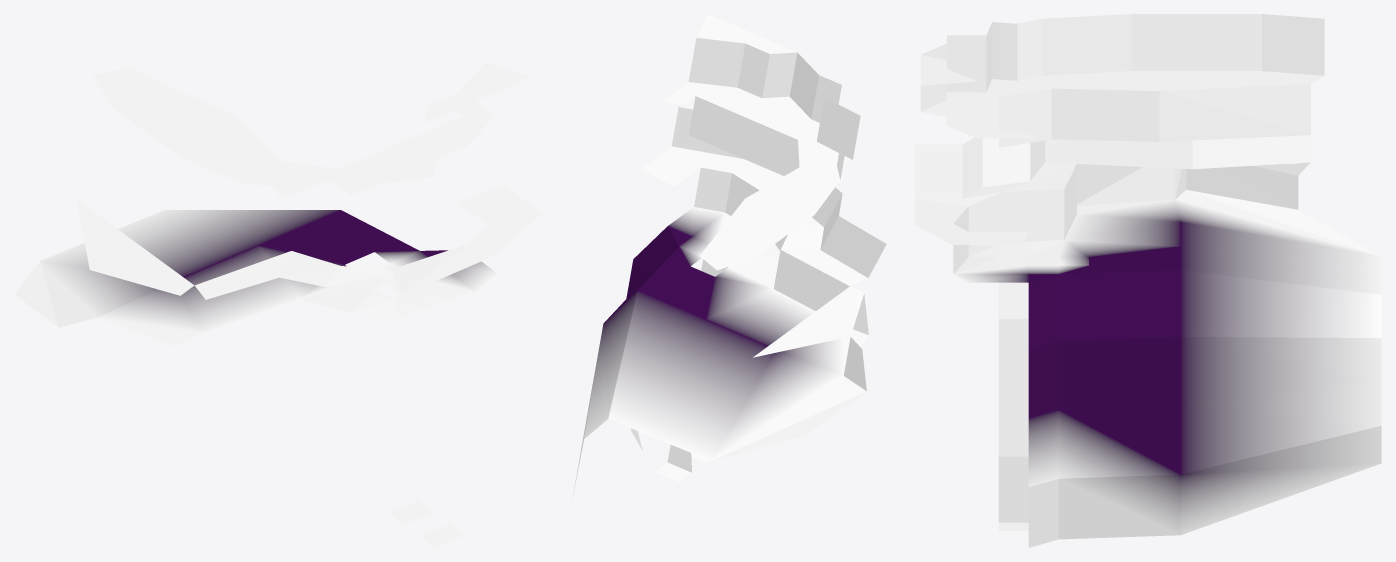
The picture shows the model from 3 angles, left to right: view 1: azimuth 30°, elevation 25°; view 2: azimuth 150°, elevation 25°; view 3: azimuth 270°, elevation 25°; orthographic projection. The views are drawn at different scales.
Parts seen in each view (by area): view 1: object0; view 2: object0; view 3: object0.
Part boxes in pixels (x1,y1,x2,y2): object0: [14, 62, 542, 547]; object0: [572, 14, 886, 499]; object0: [915, 14, 1381, 547].
Bounding box in the file's own units: 17813 × 21395 × 19577.
